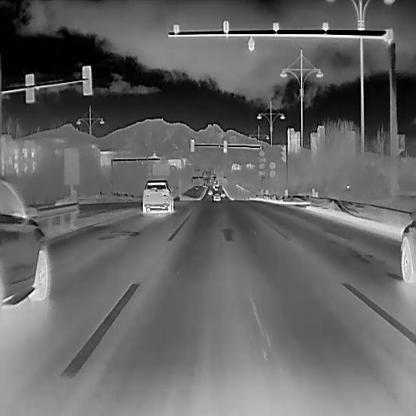car: (0, 176, 47, 309), (140, 178, 173, 213), (214, 192, 221, 200), (220, 191, 226, 197), (194, 184, 198, 190), (202, 182, 206, 188), (207, 190, 212, 194), (214, 185, 218, 190)
